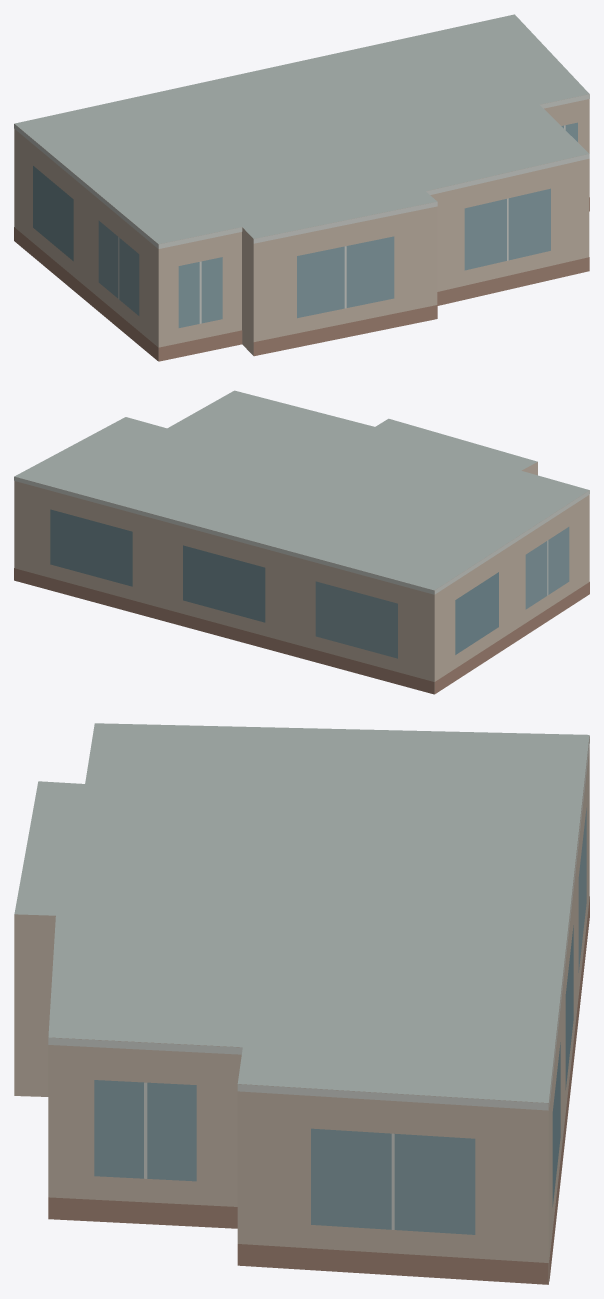
File: survey-upis-32723526.glb
3 renders of one model, top to bottom at view 1: azimuth 30°, elevation 25°; view 2: azimuth 150°, elevation 25°; view 3: azimuth 270°, elevation 25°, orthographic. The views are drawn at different scales.
Parts seen in each view (by area): view 1: survey-upis-32723526.tmp; view 2: survey-upis-32723526.tmp; view 3: survey-upis-32723526.tmp.
Part boxes in pixels (x1,y1,x2,y2): survey-upis-32723526.tmp: (14, 14, 589, 361); survey-upis-32723526.tmp: (14, 390, 589, 694); survey-upis-32723526.tmp: (14, 723, 589, 1284).
Size of the model in its own units: 13.69 by 3.05 by 8.77.
